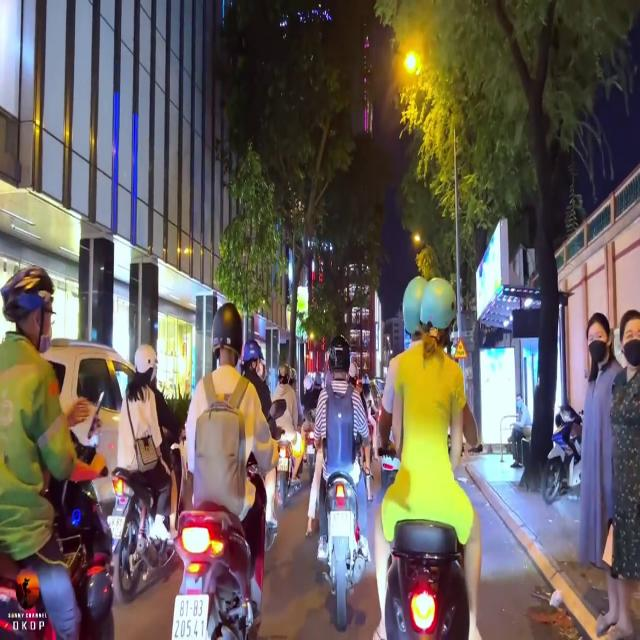bien_trang: (171, 587, 212, 640)
